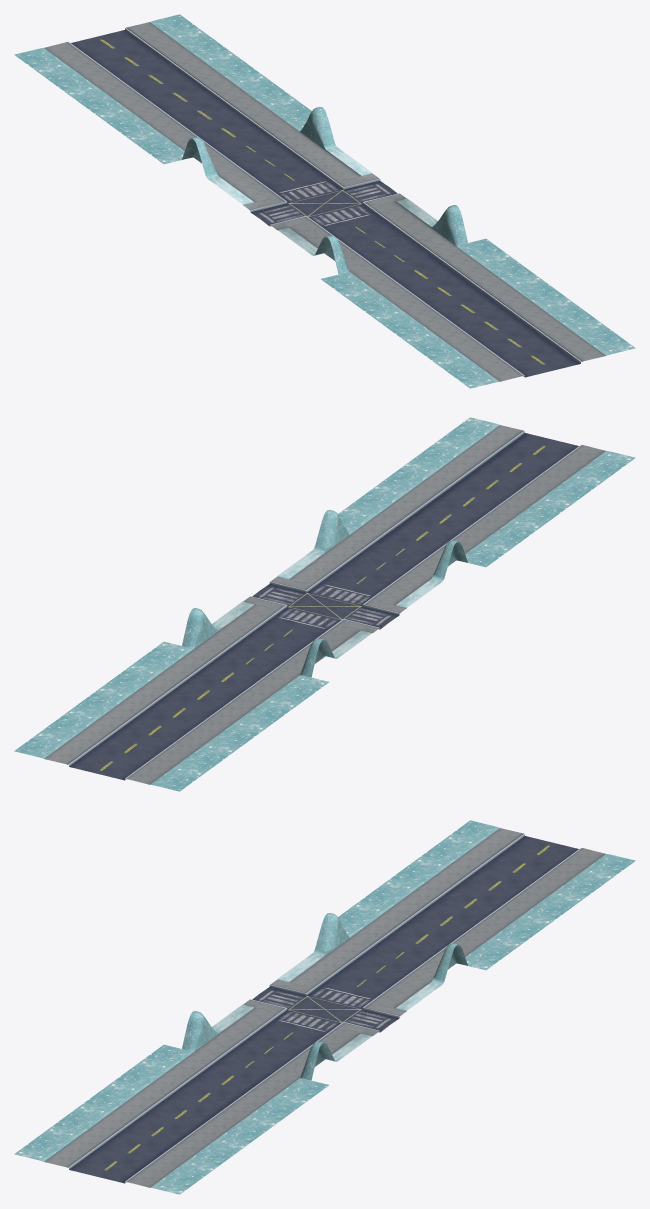
The model's file is street cross section.fbx.
3 views of the same model, one above another, from view 1: azimuth 30°, elevation 25°; view 2: azimuth 150°, elevation 25°; view 3: azimuth 330°, elevation 25° (orthographic).
Parts seen in each view (by area): view 1: Plane.004; view 2: Plane.004; view 3: Plane.004.
Boxes of the visible parts, bbox=[...] form: Plane.004: bbox=[14, 14, 635, 388]; Plane.004: bbox=[14, 417, 635, 791]; Plane.004: bbox=[14, 820, 635, 1194].
Size of the model in its own units: 4938 by 902 by 23547.
Materials: 7 (7 with a texture image).
